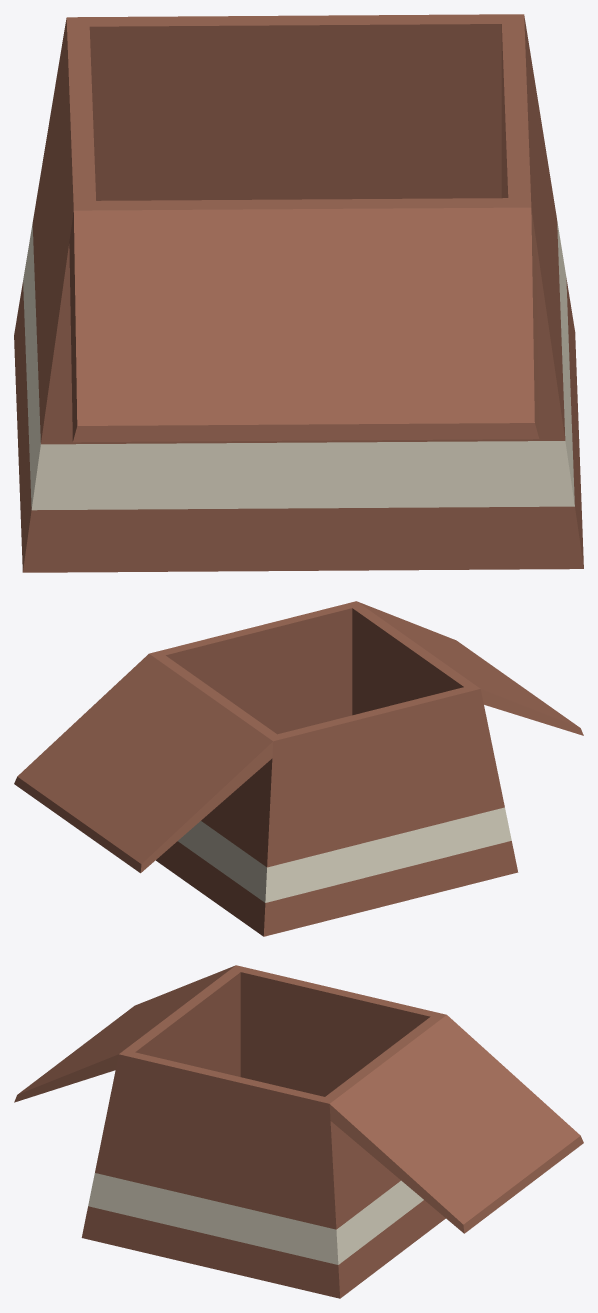
3 renders of one model, top to bottom at view 1: azimuth 30°, elevation 25°; view 2: azimuth 150°, elevation 25°; view 3: azimuth 270°, elevation 25°, orthographic. The views are drawn at different scales.
Parts seen in each view (by area): view 1: Cube.018; view 2: Cube.018; view 3: Cube.018.
Part boxes in pixels (<box>): Cube.018: <box>14,14,583,572</box>; Cube.018: <box>14,601,583,936</box>; Cube.018: <box>14,965,583,1298</box>.
Size of the model in its own units: 485 by 206 by 594.
